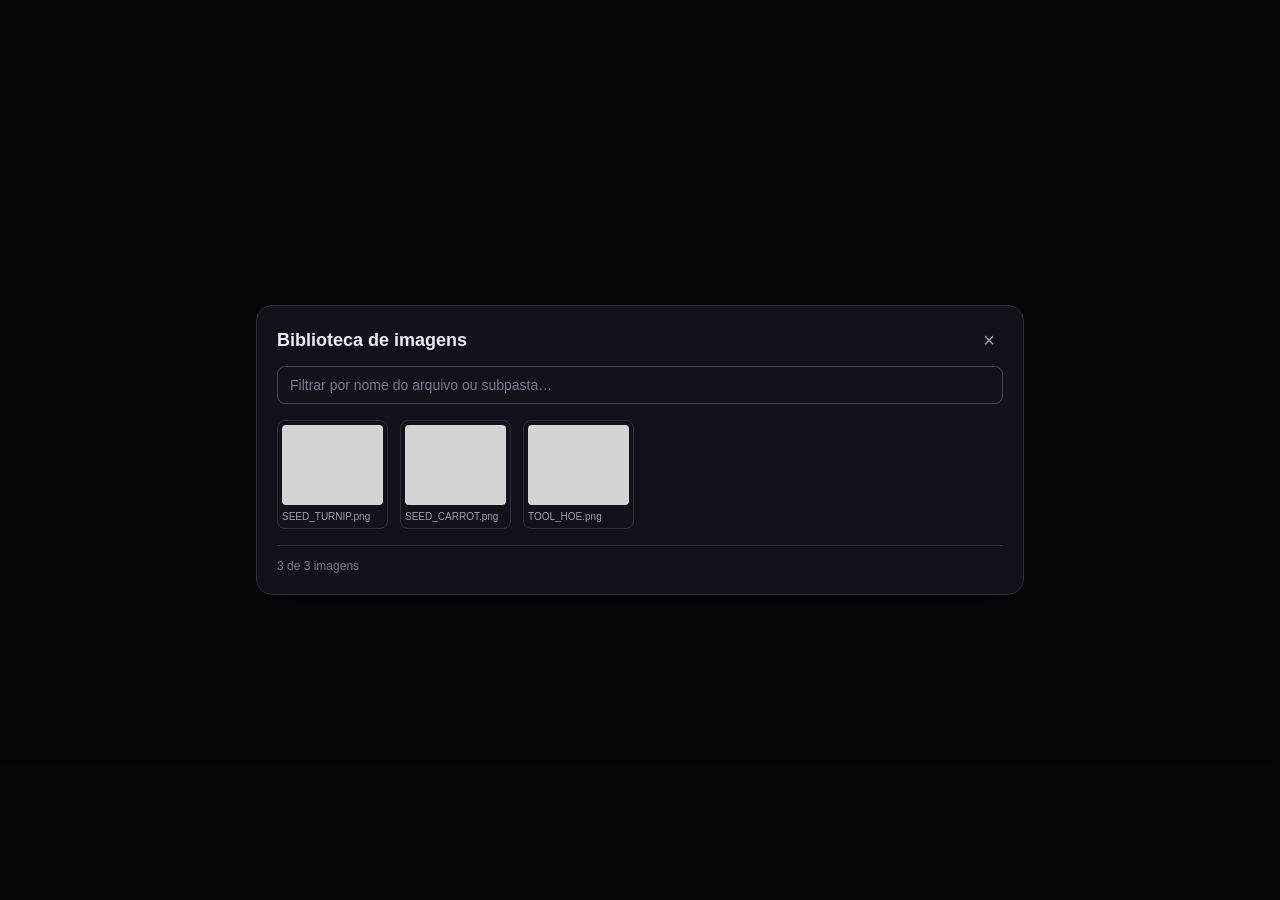
Scenario: ImageLibraryPicker › filtra por nome do arquivo
Type "seed" into the field with placeholder "Filtrar por nome do arquivo ou subpasta…" at (640, 385), box 277,366 -> 1003,404
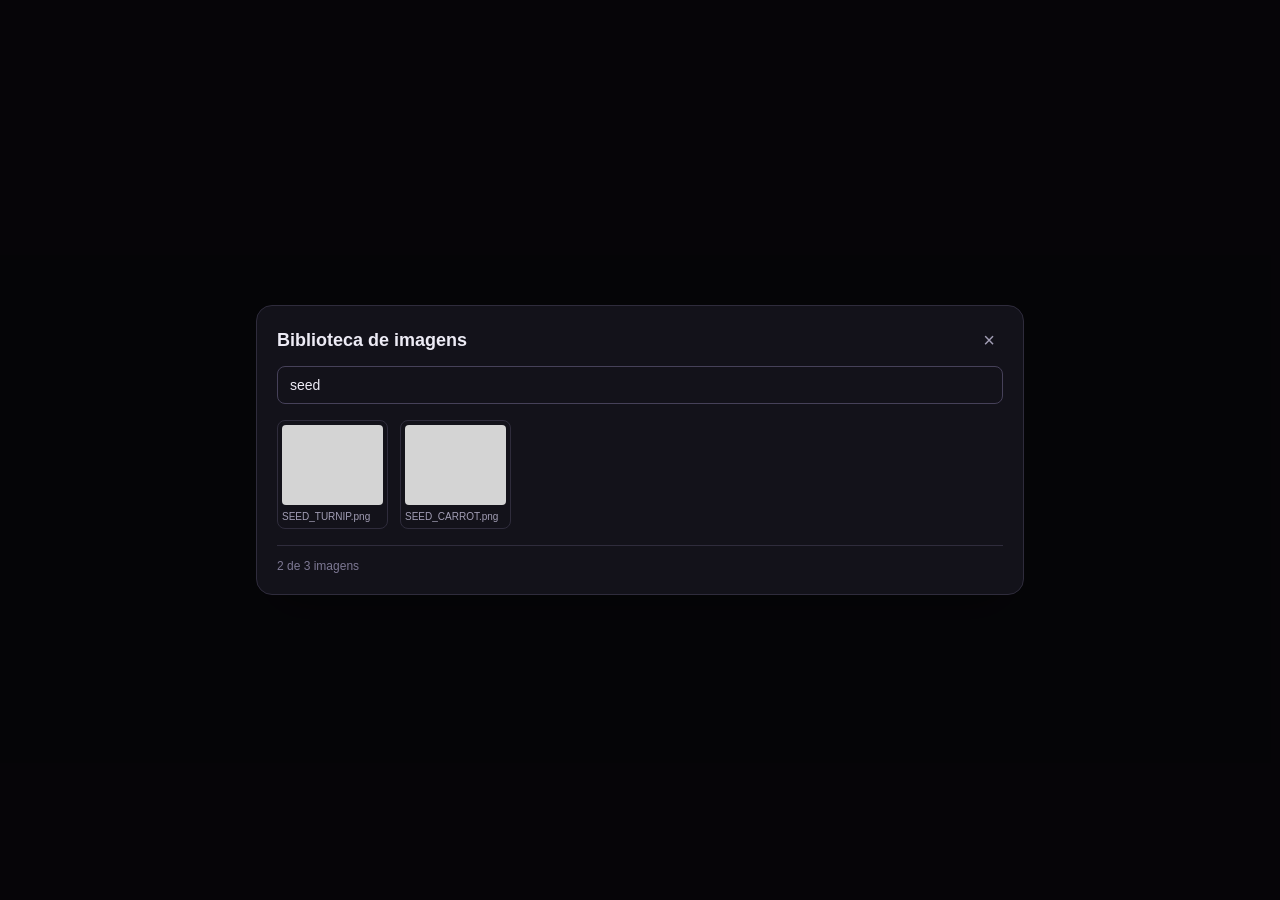
expect the text "2 de 3 imagens" is shown: met, box 277,558 -> 359,574
expect the button "TOOL_HOE.png" is gone: met
